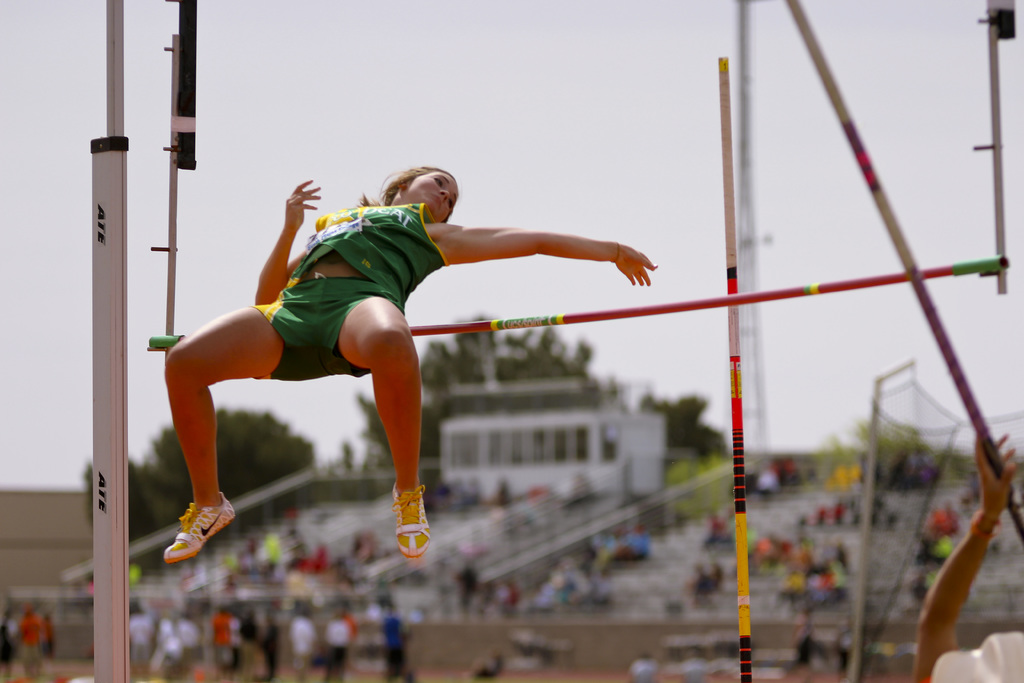Person: (914, 425, 1024, 683)
